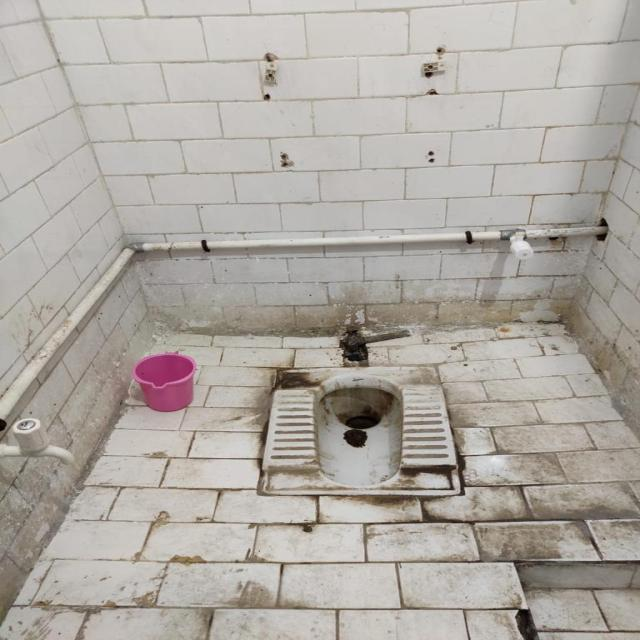dirty_floor: (1, 1, 638, 636), (1, 318, 638, 638), (257, 363, 461, 498), (314, 374, 403, 486), (323, 383, 395, 449), (341, 427, 368, 448)
